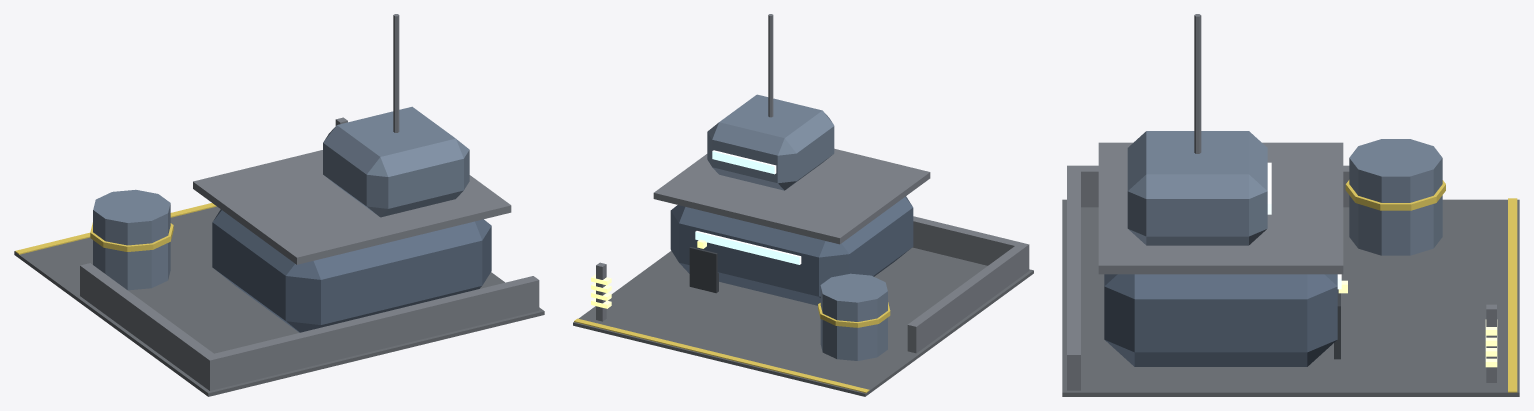
File: zone_low_5_t4.glb
3 renders of one model, left to right at view 1: azimuth 30°, elevation 25°; view 2: azimuth 150°, elevation 25°; view 3: azimuth 270°, elevation 25°, orthographic. The views are drawn at different scales.
Parts seen in each view (by area): view 1: zone_low_5_t4, detail; view 2: zone_low_5_t4, detail; view 3: zone_low_5_t4, detail.
Boxes of the visible parts, left/top/right/bottom form: zone_low_5_t4: left=14, top=106, right=544, bottom=396; detail: left=15, top=14, right=399, bottom=254; zone_low_5_t4: left=573, top=94, right=1033, bottom=396; detail: left=574, top=14, right=890, bottom=392; zone_low_5_t4: left=1062, top=131, right=1519, bottom=396; detail: left=1194, top=14, right=1517, bottom=392.
Size of the model in its own units: 19.6 by 15.59 by 19.6.
